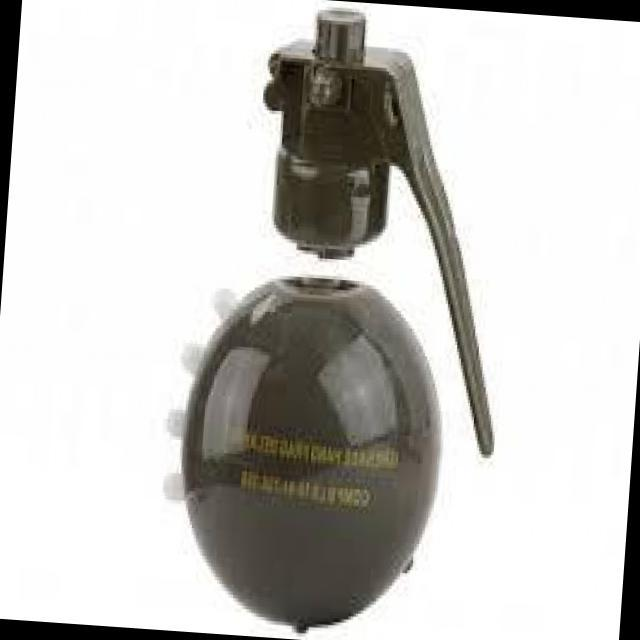grenade: (151, 0, 528, 640)
